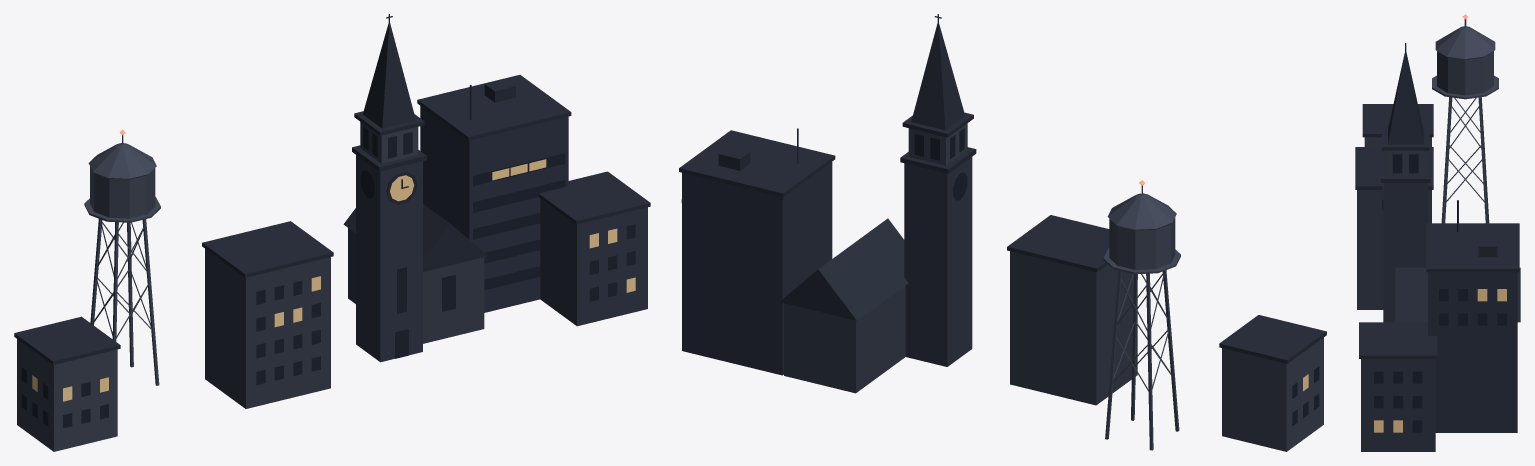
Rendered from World_SkylineB.fbx.
3 renders of one model, left to right at view 1: azimuth 30°, elevation 25°; view 2: azimuth 150°, elevation 25°; view 3: azimuth 270°, elevation 25°, orthographic. The views are drawn at different scales.
Visible parts, largest first — view 1: Roofs, Walls1, Walls2, Walls0, WindowsDark, Walls3, WaterTower, Windows; view 2: Walls2, Roofs, Walls0, Walls1, Walls3, WaterTower, WindowsDark; view 3: Roofs, Walls0, Walls1, WaterTower, Walls2, WindowsDark, Walls3, Windows.
Boxes of the visible parts, left/top/right/bottom form: Roofs: left=14, top=14, right=650, bottom=365; Walls1: left=356, top=155, right=647, bottom=362; Walls2: left=205, top=228, right=484, bottom=408; Walls0: left=420, top=106, right=568, bottom=312; WindowsDark: left=21, top=126, right=635, bottom=428; Walls3: left=17, top=122, right=418, bottom=451; WaterTower: left=84, top=135, right=160, bottom=385; Windows: left=32, top=159, right=635, bottom=401; Walls2: left=784, top=251, right=1137, bottom=405; Roofs: left=679, top=14, right=1326, bottom=363; Walls0: left=682, top=162, right=832, bottom=375; Walls1: left=904, top=157, right=972, bottom=366; Walls3: left=908, top=123, right=1323, bottom=451; WaterTower: left=1103, top=185, right=1180, bottom=450; WindowsDark: left=914, top=128, right=1319, bottom=425; Roofs: left=1355, top=43, right=1520, bottom=358; Walls0: left=1428, top=272, right=1517, bottom=432; Walls1: left=1361, top=183, right=1435, bottom=451; WaterTower: left=1432, top=19, right=1498, bottom=223; Walls2: left=1357, top=190, right=1431, bottom=309; WindowsDark: left=1374, top=154, right=1506, bottom=432; Walls3: left=1364, top=137, right=1431, bottom=176; Windows: left=1374, top=289, right=1506, bottom=432.
Bounding box in the file's own units: 8400 × 4502 × 2215.
